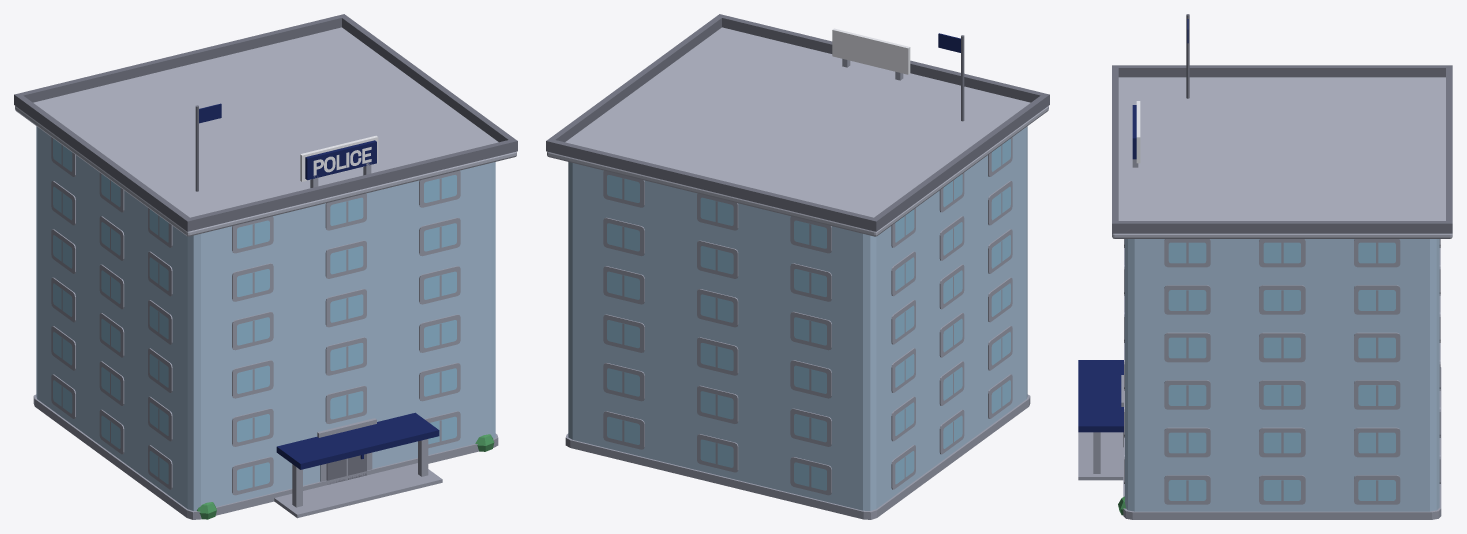
File: police-station-2x2-6f.glb
3 views of the same model, side by side, from view 1: azimuth 30°, elevation 25°; view 2: azimuth 150°, elevation 25°; view 3: azimuth 270°, elevation 25° (orthographic).
Visible parts, largest first — view 1: police-station-2x2-6f; view 2: police-station-2x2-6f; view 3: police-station-2x2-6f.
Part boxes in pixels (box(x1,y1,x2,y2)): police-station-2x2-6f: box(14, 14, 517, 519); police-station-2x2-6f: box(546, 14, 1049, 519); police-station-2x2-6f: box(1078, 14, 1452, 519).
Bounding box in the file's own units: 2 × 2.21 × 2.
1 material, 1 textured.
